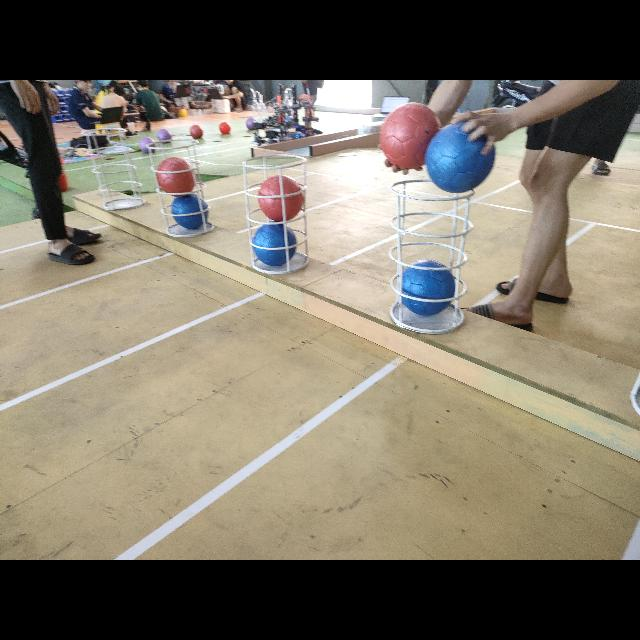B: (399, 261, 455, 315), (252, 224, 296, 266), (171, 196, 209, 228)
R: (256, 174, 304, 222), (158, 156, 196, 196)
